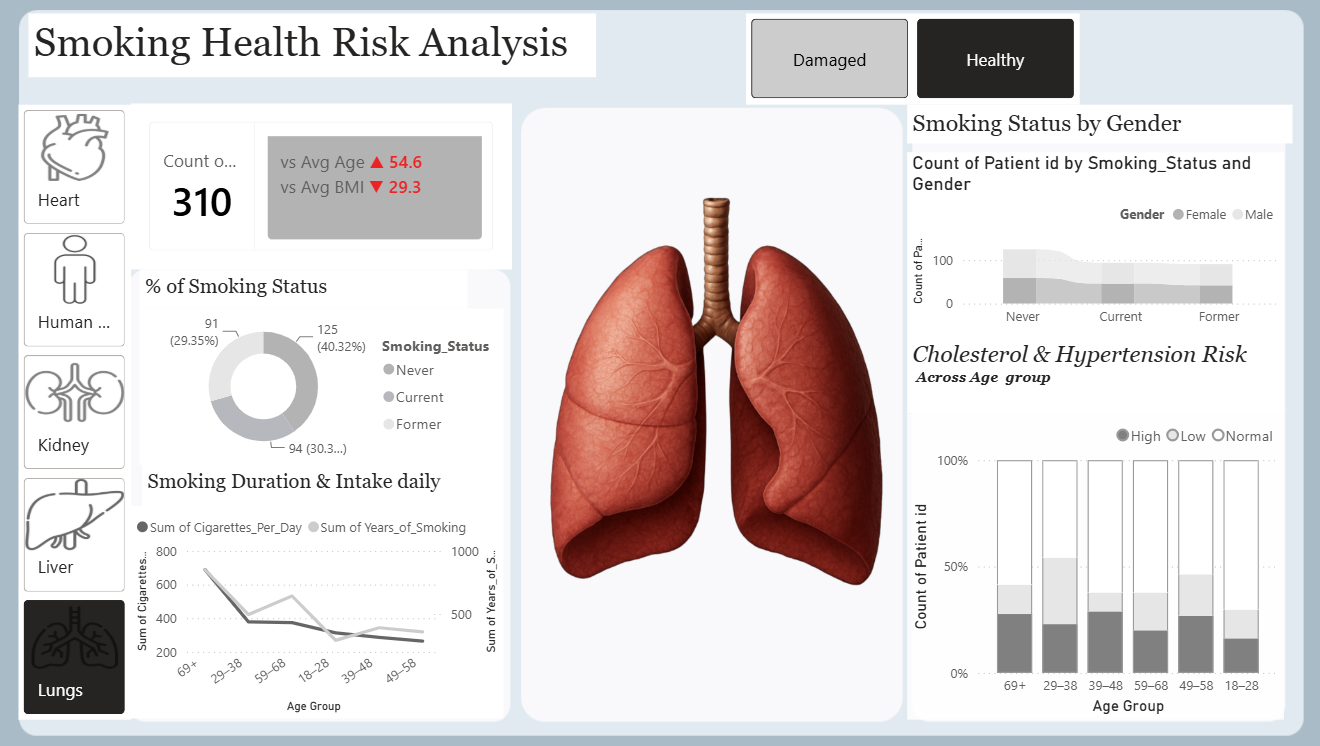

Layout of this report page (visuals, bound fields, positions):
{"tool":"powerbi","page":{"name":"Page 1","canvas":[1280,720],"ordinal":0},"visuals":[{"type":"textbox","box":[48.8,20.9,527.9,59.3],"z":0},{"type":"ribbonChart","fields":{"Category":["health_dataset.Smoking_Status"],"Y":["CountNonNull(health_dataset.Patient_ID)"],"Series":["health_dataset.Gender"]},"box":[866.3,150,350,170.9],"z":1000},{"type":"donutChart","fields":{"Y":["CountNonNull(health_dataset.Patient_ID)"],"Category":["health_dataset.Smoking_Status"]},"box":[152.3,295.3,338.4,145.3],"z":2000},{"type":"lineChart","fields":{"Y2":["Sum(health_dataset.Years_of_Smoking)"],"Y":["Sum(health_dataset.Cigarettes_Per_Day)"],"Category":["health_dataset.Age Group"]},"box":[144.2,479.1,346.5,197.7],"z":3000},{"type":"textbox","box":[152.5,258.8,305,36.2],"z":4000},{"type":"textbox","box":[866.3,105.8,358.1,36],"z":6000},{"type":"textbox","box":[866.3,320.9,350,72.1],"z":7000},{"type":"hundredPercentStackedColumnChart","fields":{"Category":["health_dataset.Age Group"],"Y":["CountNonNull(health_dataset.Patient_ID)"],"Series":["health_dataset.BP_Risk"]},"box":[866.2,392.5,350,285],"z":8000},{"type":"textbox","box":[154.7,440.7,336,38.4],"z":9000},{"type":"advancedSlicerVisual","fields":{"Values":["Organs.Organ"]},"box":[39.5,105.8,104.7,572.1],"z":10000},{"type":"image","box":[514,101.2,352.3,575.6],"z":11000},{"type":"cardVisual","fields":{"Data":["CountNonNull(health_dataset.Patient_ID)"]},"box":[144.4,104.4,354.4,154.4],"z":12000},{"type":"advancedSlicerVisual","fields":{"Values":["health_dataset.Organ_Condition"]},"box":[716.3,20.9,310.5,84.9],"z":13000}]}

Visuals, with their boxes in screenshot pixels (x1, y1, x2, y2), scaled from the page's 1280x720 canvas onto the 1320x746 screenshot:
textbox: [50,22,595,83]
ribbonChart - health_dataset.Smoking_Status x CountNonNull(health_dataset.Patient_ID): [893,155,1254,332]
donutChart - CountNonNull(health_dataset.Patient_ID) x health_dataset.Smoking_Status: [157,306,506,457]
lineChart - Sum(health_dataset.Years_of_Smoking) x Sum(health_dataset.Cigarettes_Per_Day): [149,496,506,701]
textbox: [157,268,472,306]
textbox: [893,110,1263,147]
textbox: [893,332,1254,407]
hundredPercentStackedColumnChart - health_dataset.Age Group x CountNonNull(health_dataset.Patient_ID): [893,407,1254,702]
textbox: [160,457,506,496]
advancedSlicerVisual - Organs.Organ: [41,110,149,702]
image: [530,105,893,701]
cardVisual - CountNonNull(health_dataset.Patient_ID): [149,108,514,268]
advancedSlicerVisual - health_dataset.Organ_Condition: [739,22,1059,110]
